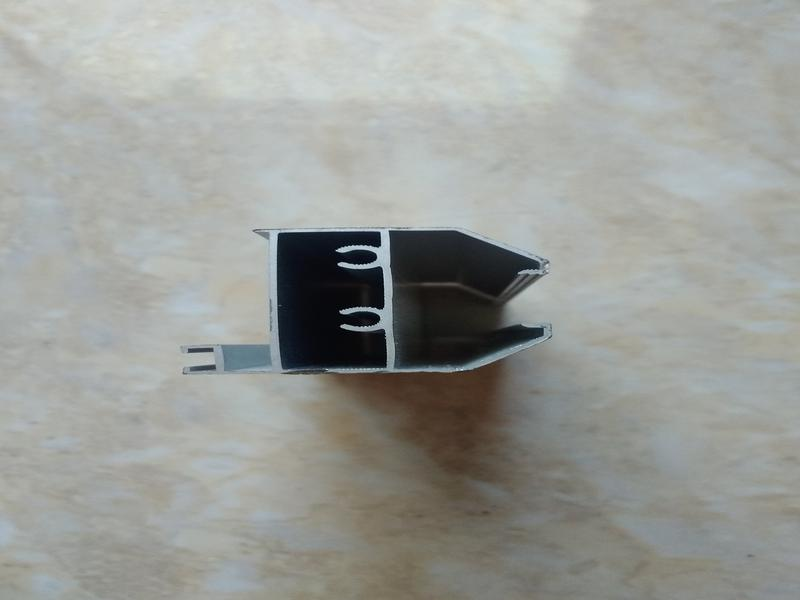Aluminium_3: (171, 196, 588, 411)
